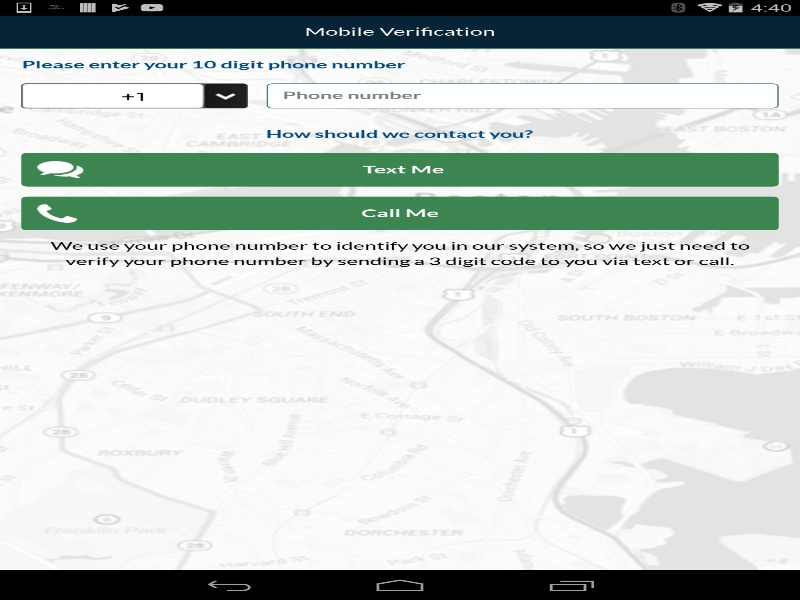Button: (21, 152, 778, 186), (21, 196, 778, 230)
Input: (266, 83, 778, 108)
